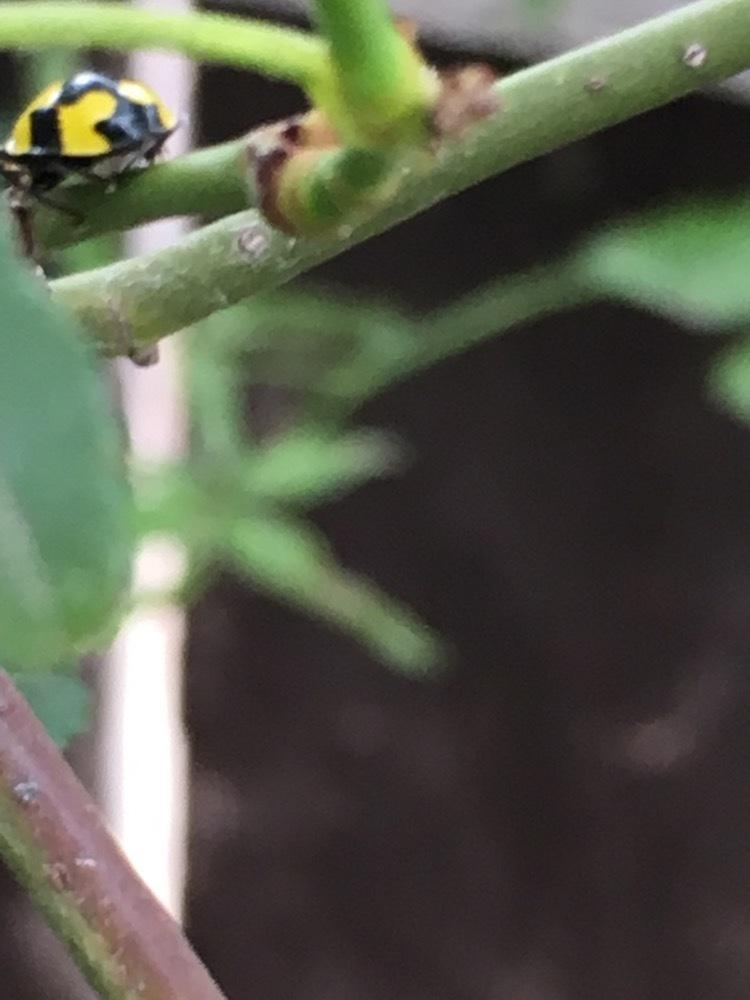ladybug: (1, 61, 189, 216)
